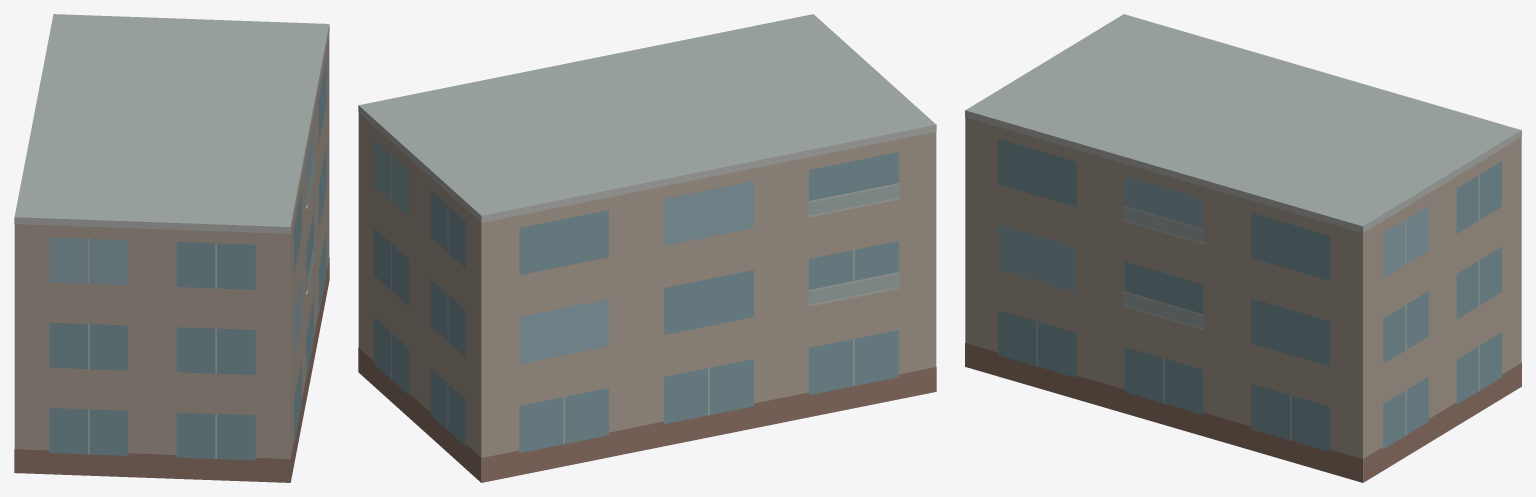
The model's file is survey-upis-32699838.glb.
The picture shows the model from 3 angles, left to right: view 1: azimuth 30°, elevation 25°; view 2: azimuth 150°, elevation 25°; view 3: azimuth 270°, elevation 25°; orthographic projection. The views are drawn at different scales.
Parts seen in each view (by area): view 1: survey-upis-32699838.tmp; view 2: survey-upis-32699838.tmp; view 3: survey-upis-32699838.tmp.
Boxes of the visible parts, bbox=[...] form: survey-upis-32699838.tmp: bbox=[14, 14, 329, 482]; survey-upis-32699838.tmp: bbox=[358, 14, 936, 482]; survey-upis-32699838.tmp: bbox=[965, 14, 1521, 482].
Size of the model in its own units: 16.27 by 9.15 by 18.01.
